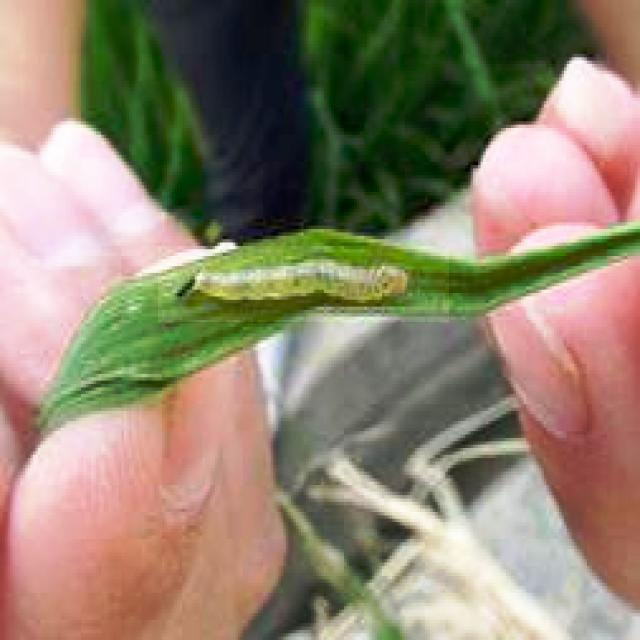leaf-folder: (158, 246, 449, 322)
